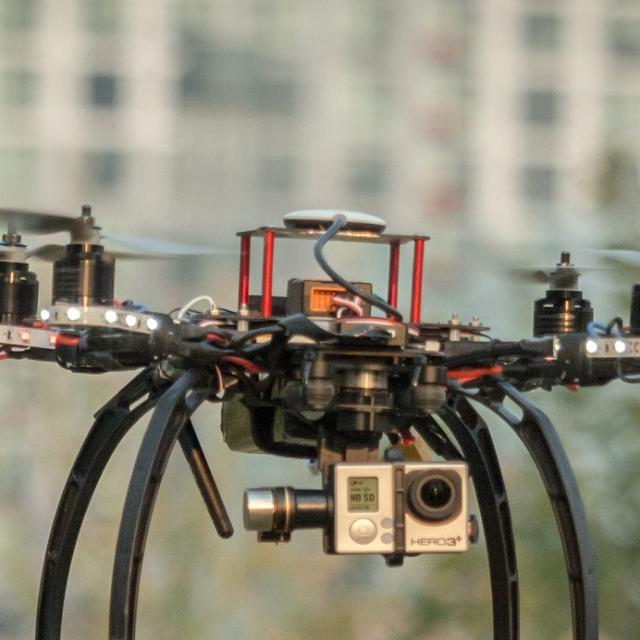drone: (0, 171, 640, 481)
